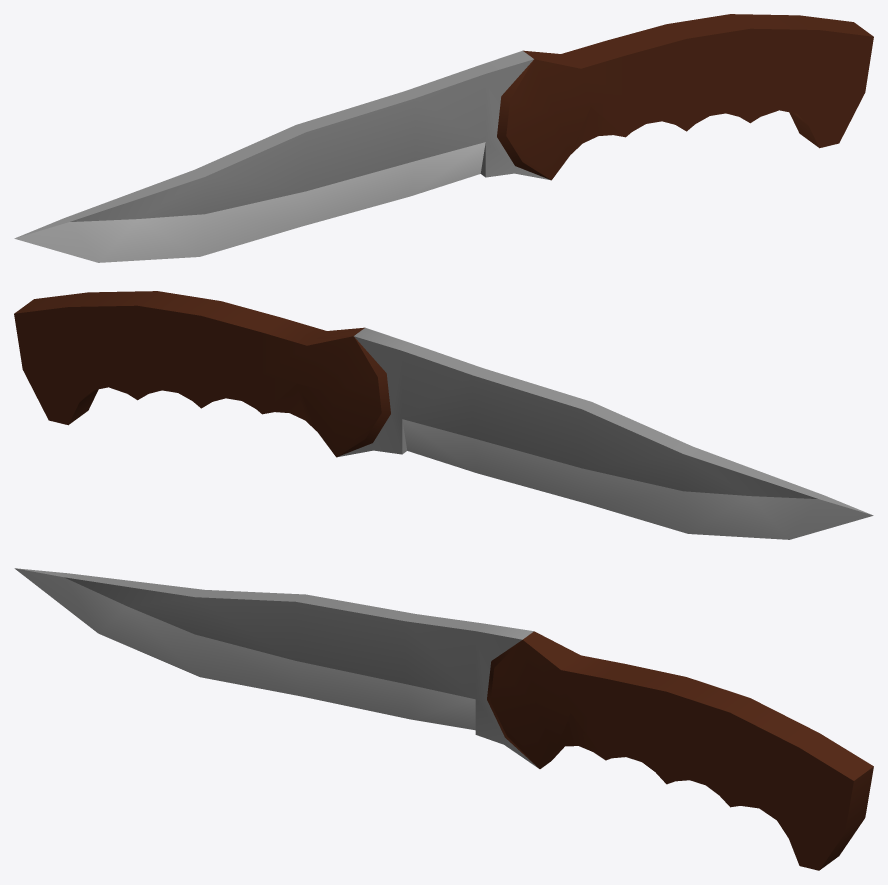
The model's file is Knfie.fbx.
3 renders of one model, top to bottom at view 1: azimuth 30°, elevation 25°; view 2: azimuth 150°, elevation 25°; view 3: azimuth 330°, elevation 25°, orthographic.
Visible parts, largest first — view 1: Knfie; view 2: Knfie; view 3: Knfie.
Part boxes in pixels (x1,y1,x2,y2): Knfie: [14, 14, 873, 262]; Knfie: [14, 291, 873, 539]; Knfie: [14, 568, 873, 870].
Size of the model in its own units: 4.89 by 0.85 by 0.2.
